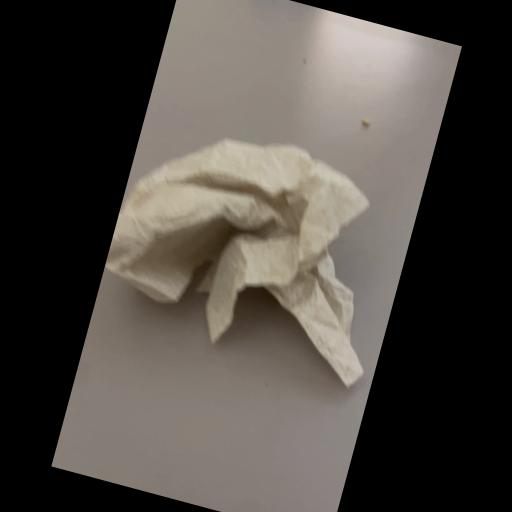napkin: (91, 104, 414, 388)
